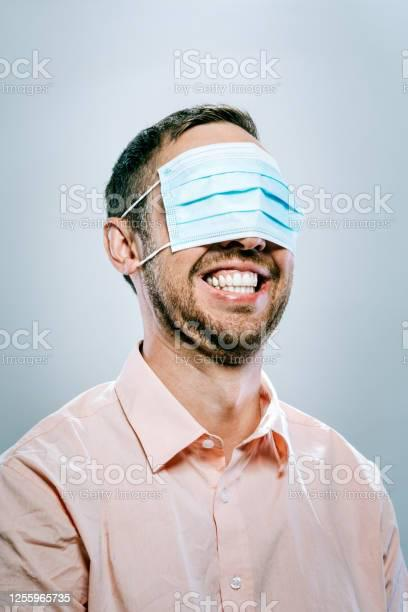WRONG: (142, 187, 296, 350)
